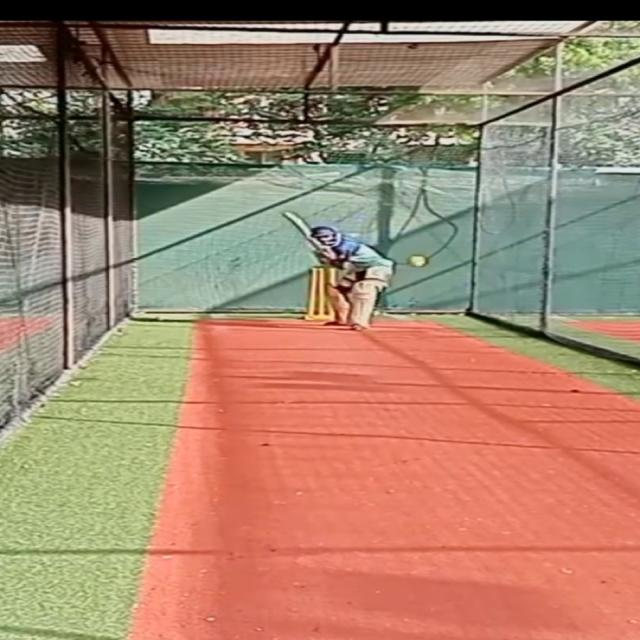ball: (406, 255, 426, 269)
stump: (304, 267, 336, 322)
